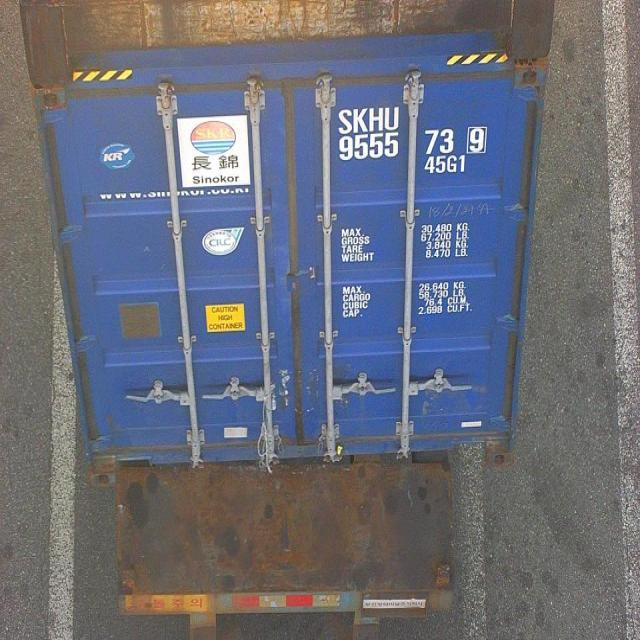ISO: (424, 154, 469, 174)
container_number: (338, 110, 489, 161)
